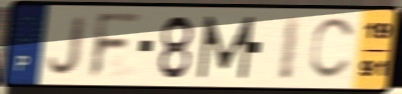8: (158, 14, 194, 80)
C: (307, 16, 359, 83)
F: (86, 11, 145, 82)
I: (276, 13, 304, 83)
J: (46, 14, 89, 77)
M: (196, 14, 257, 81)
